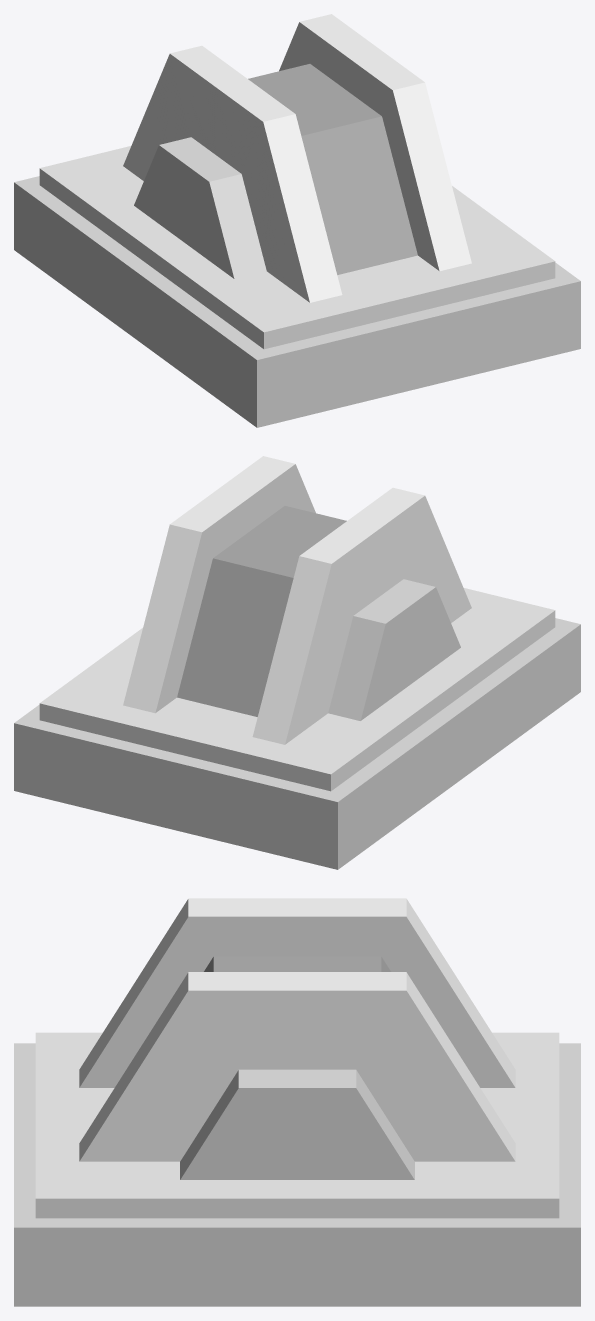
Rendered from salween_hydro.glb.
The picture shows the model from 3 angles, top to bottom: view 1: azimuth 30°, elevation 25°; view 2: azimuth 150°, elevation 25°; view 3: azimuth 270°, elevation 25°; orthographic projection. The views are drawn at different scales.
Visible parts, largest first — view 1: Body; view 2: Body; view 3: Body.
Part boxes in pixels (x1,y1,x2,y2): Body: (14, 14, 580, 427); Body: (14, 456, 580, 869); Body: (14, 898, 580, 1306).
Bounding box in the file's own units: 9.23 × 6.3 × 12.
2 materials, 1 textured.
